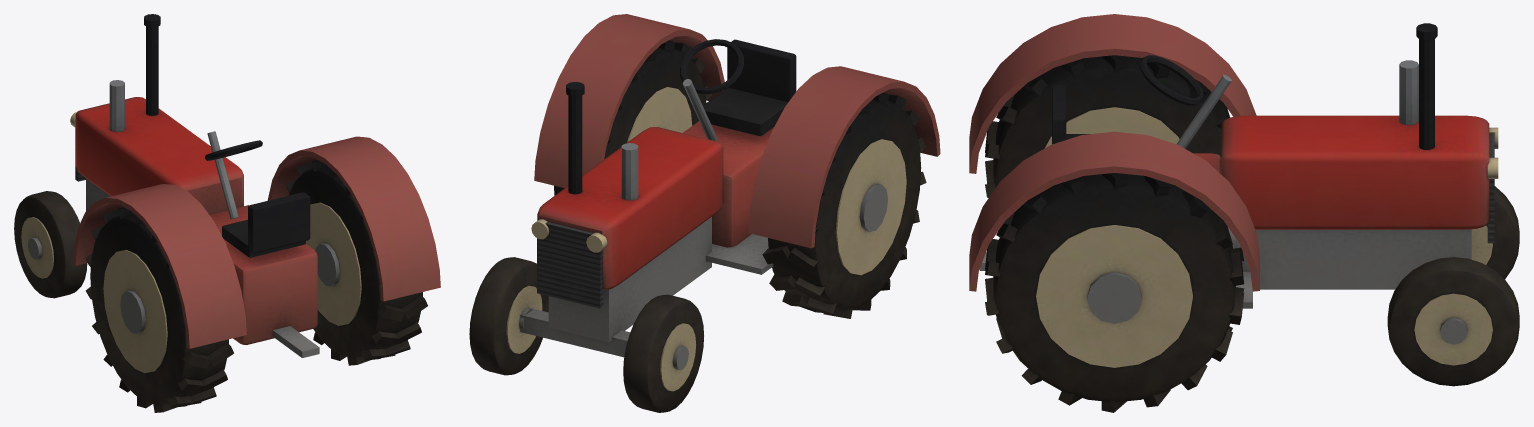
Rendered from tractor.glb.
3 renders of one model, left to right at view 1: azimuth 30°, elevation 25°; view 2: azimuth 150°, elevation 25°; view 3: azimuth 270°, elevation 25°, orthographic. The views are drawn at different scales.
Visible parts, largest first — view 1: tractor; view 2: tractor; view 3: tractor.
Boxes of the visible parts, box(x1,y1,x2,y2) form: tractor: box(14, 14, 440, 412); tractor: box(469, 14, 940, 412); tractor: box(969, 14, 1519, 412).
Bounding box in the file's own units: 2.02 × 2.01 × 3.08.
Materials: 1 (1 with a texture image).
